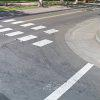Crosswalk: (3, 11, 57, 58)
